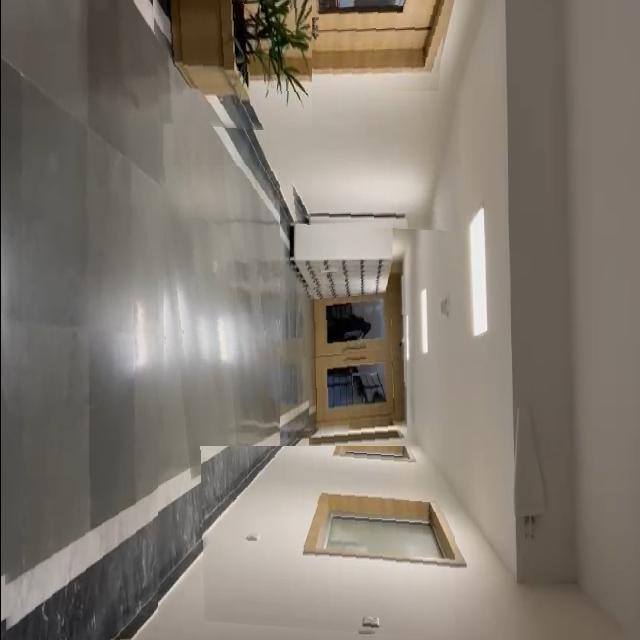door: (306, 280, 406, 454), (272, 0, 446, 99)
floor: (0, 0, 157, 640), (157, 166, 279, 488)
wall: (199, 446, 454, 640), (280, 91, 460, 232), (150, 0, 310, 134)
